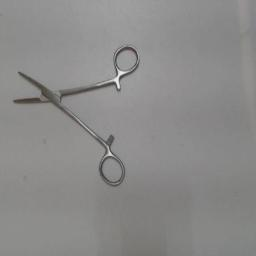Mayo Needle Holder: (8, 42, 146, 190)
